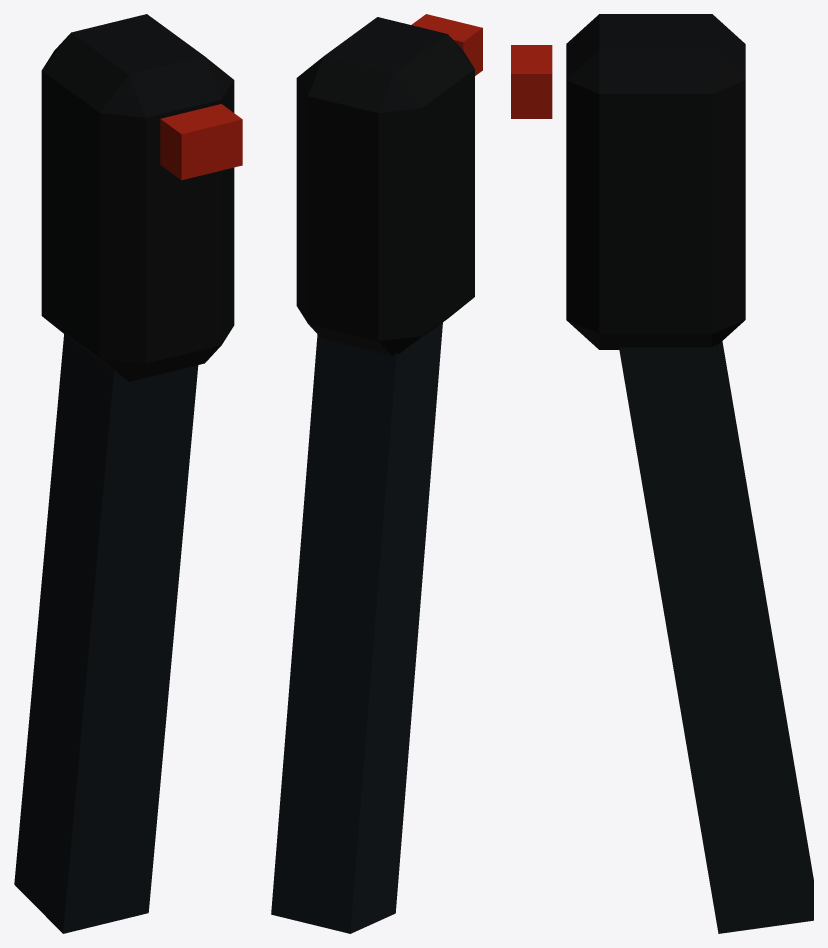
Rendered from Cockpit_FixedWing__Stick.obj.
3 views of the same model, side by side, from view 1: azimuth 30°, elevation 25°; view 2: azimuth 150°, elevation 25°; view 3: azimuth 270°, elevation 25° (orthographic). The views are drawn at different scales.
Visible parts, largest first — view 1: Control_stick, Stick_grip, Stick_trigger; view 2: Control_stick, Stick_grip, Stick_trigger; view 3: Control_stick, Stick_grip, Stick_trigger.
Boxes of the visible parts, box(x1,y1,x2,y2) form: Control_stick: box(14, 334, 198, 933); Stick_grip: box(41, 14, 234, 381); Stick_trigger: box(160, 104, 242, 180); Control_stick: box(271, 322, 442, 933); Stick_grip: box(296, 17, 474, 355); Stick_trigger: box(411, 14, 482, 75); Control_stick: box(619, 341, 813, 933); Stick_grip: box(566, 14, 745, 349); Stick_trigger: box(511, 45, 552, 118).
Bounding box in the file's own units: 0.055 × 0.3527 × 0.1098.
